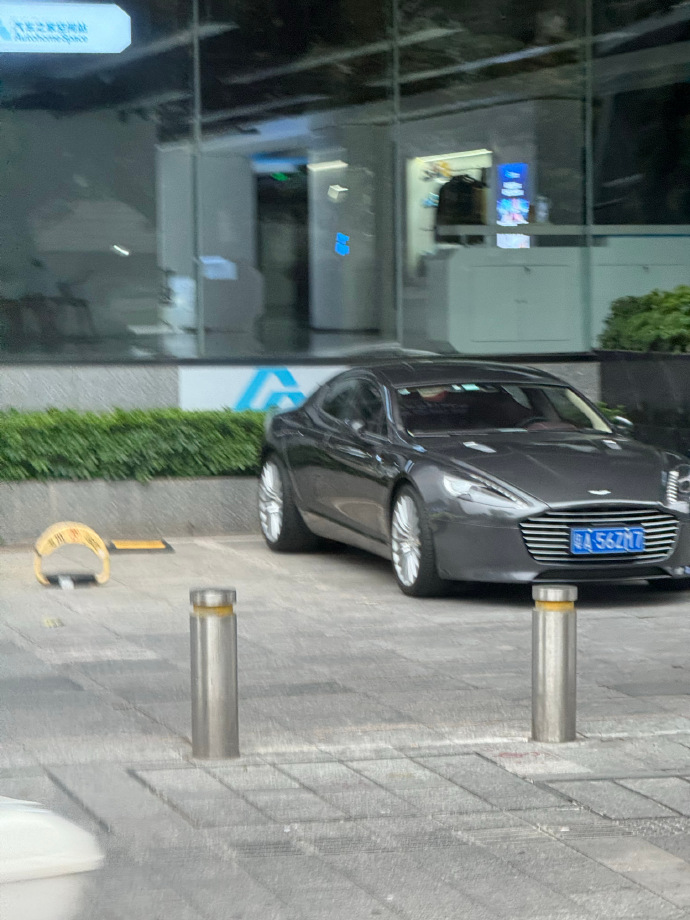other: (245, 357, 690, 598)
